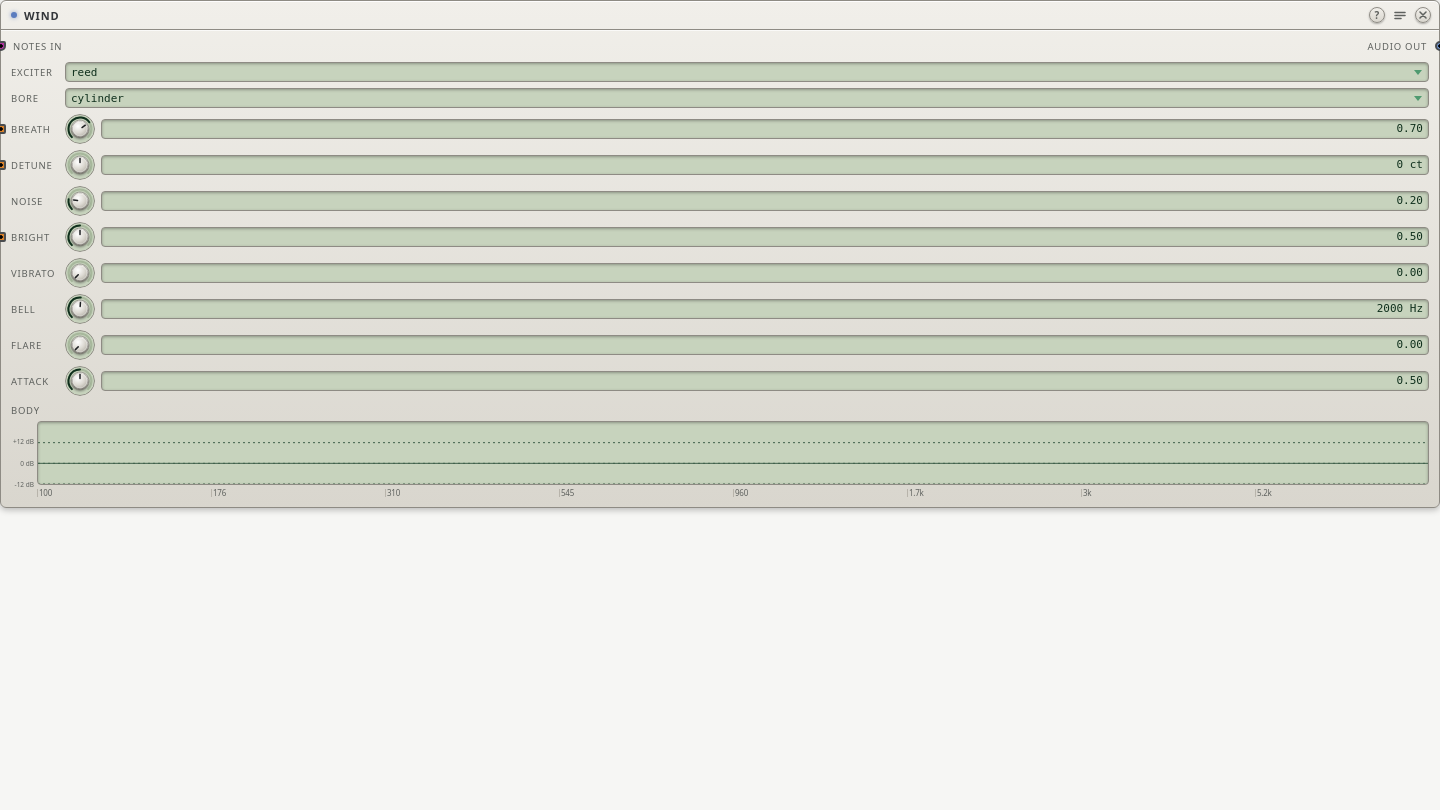
it: PresetMenu › built in › saves a preset named as a built-in one as one of your own, leaving the built-in one as it is
Click the button named "Presets of Wind" at {"x": 1400, "y": 15}, box [1392,7,1408,23]
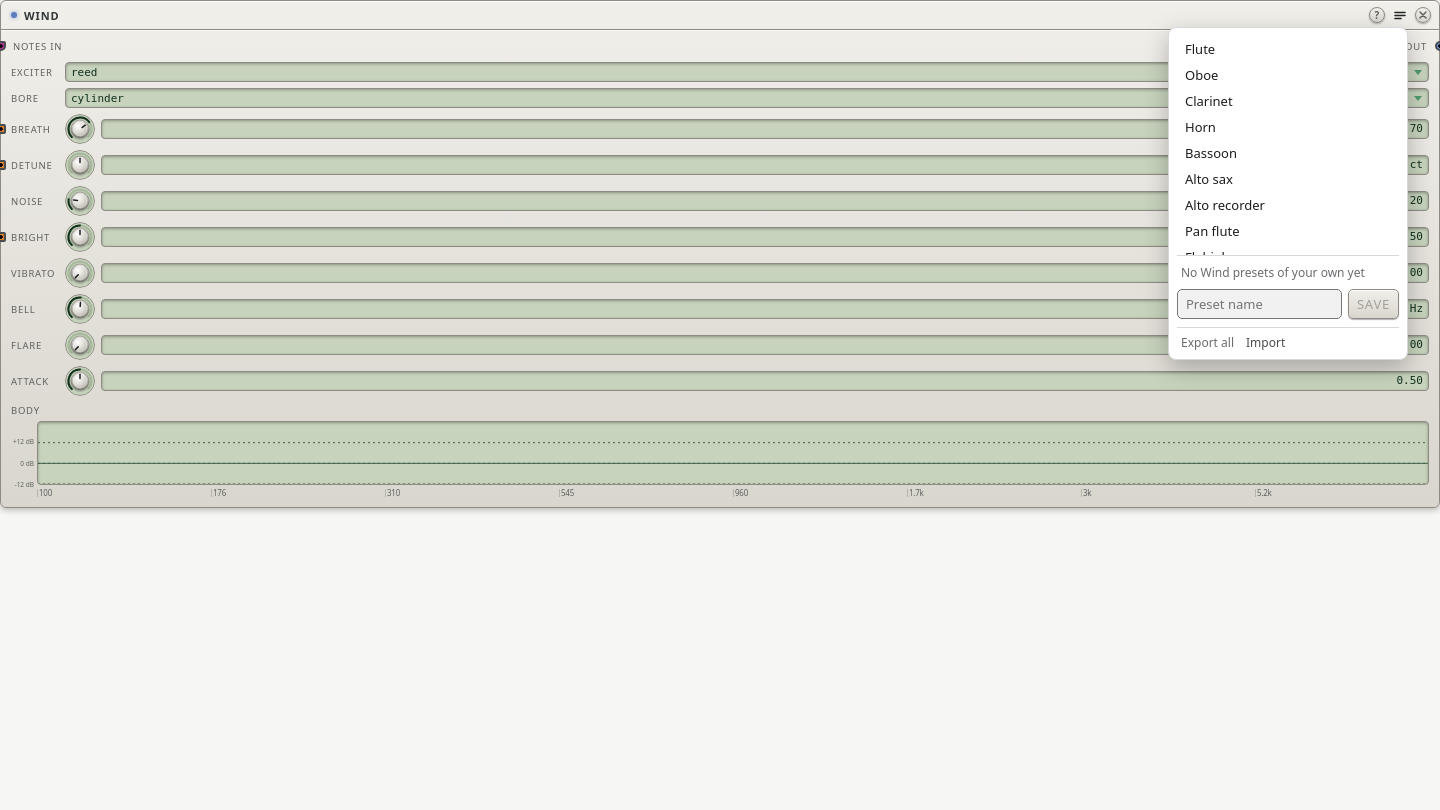
Type "Oboe" into the field labelled "Preset name" at {"x": 1259, "y": 304}, box [1177,289,1342,319]
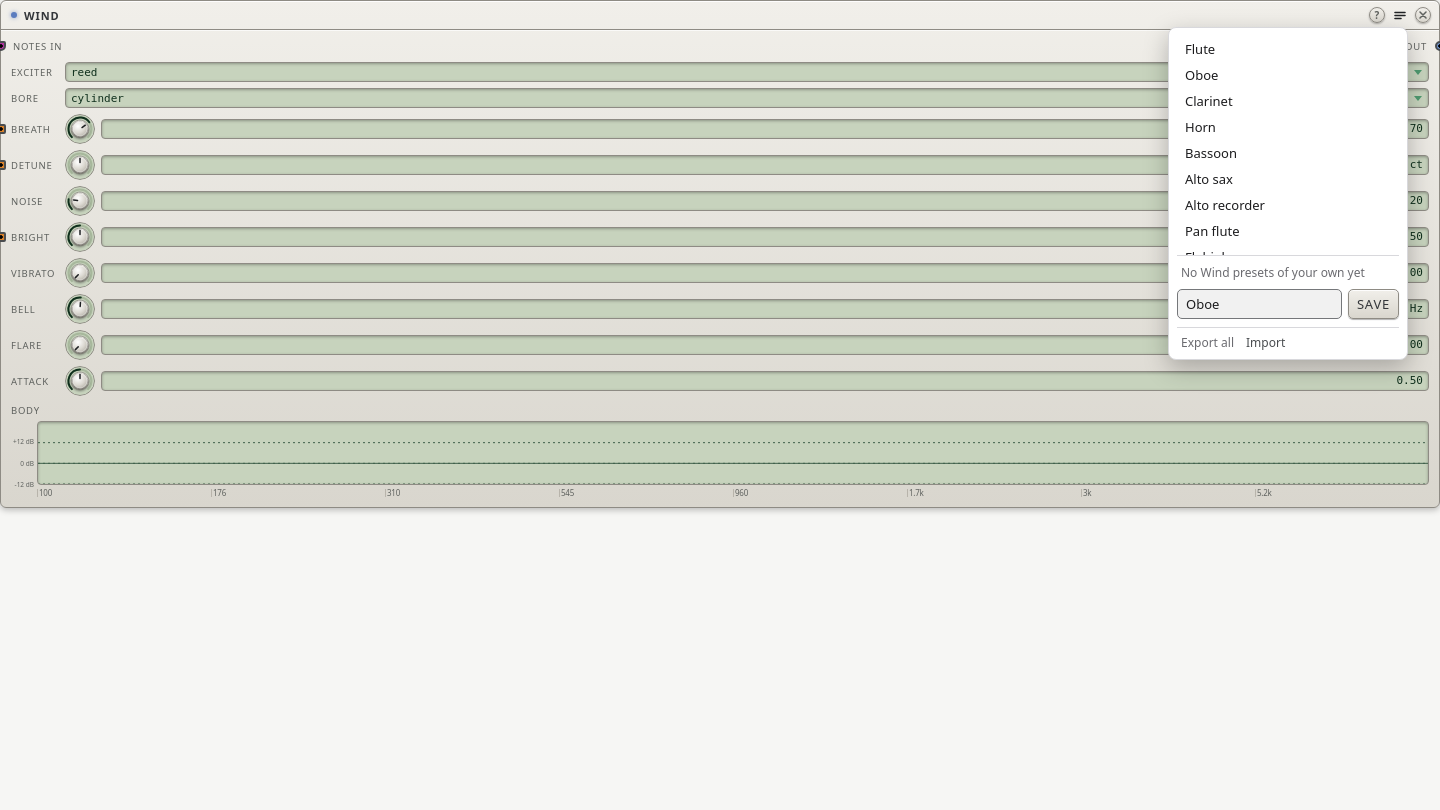
Now the button with aria-label "Save preset" is shown, box [1348,289,1399,319]
Press Enter
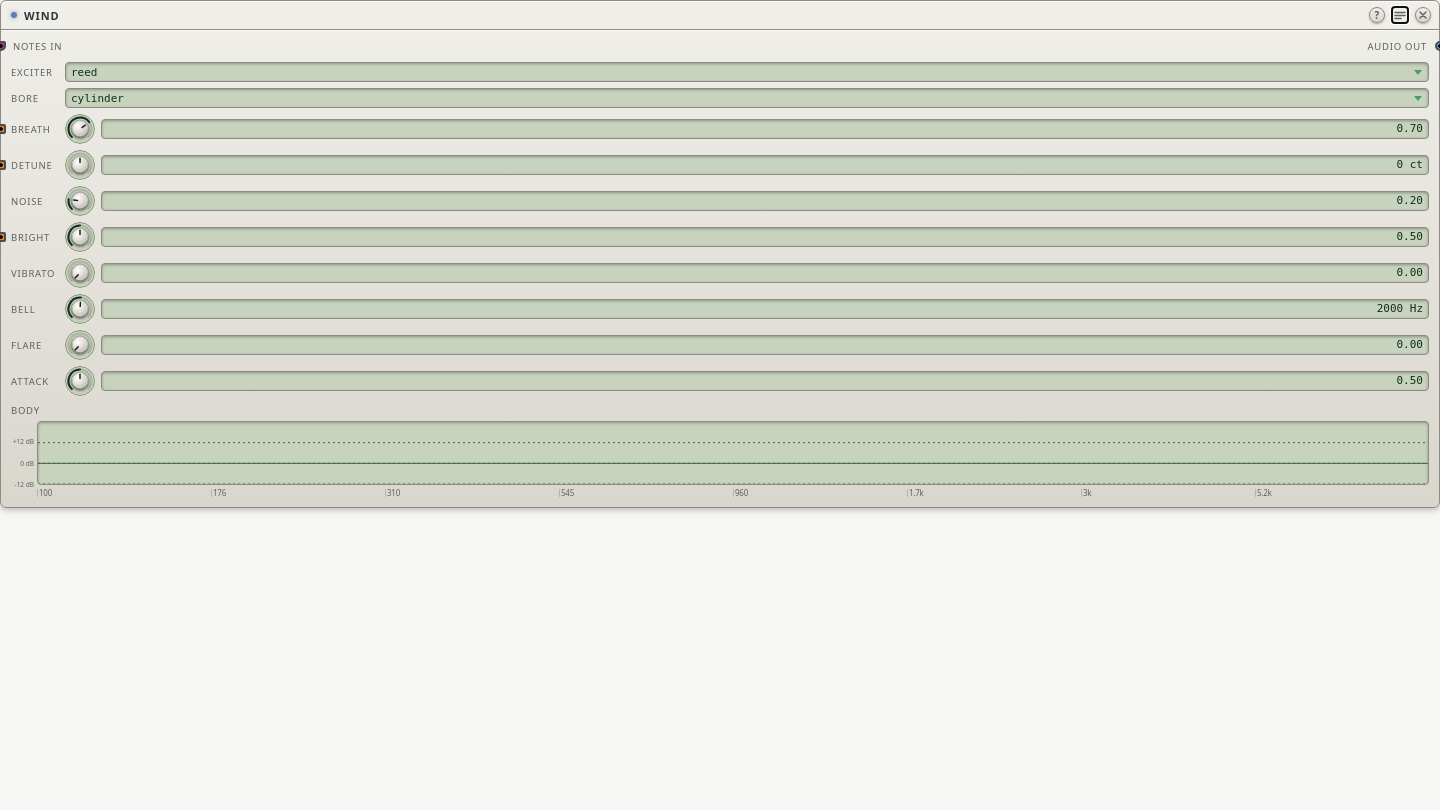
Click the button named "Presets of Wind" at {"x": 1400, "y": 15}, box [1392,7,1408,23]
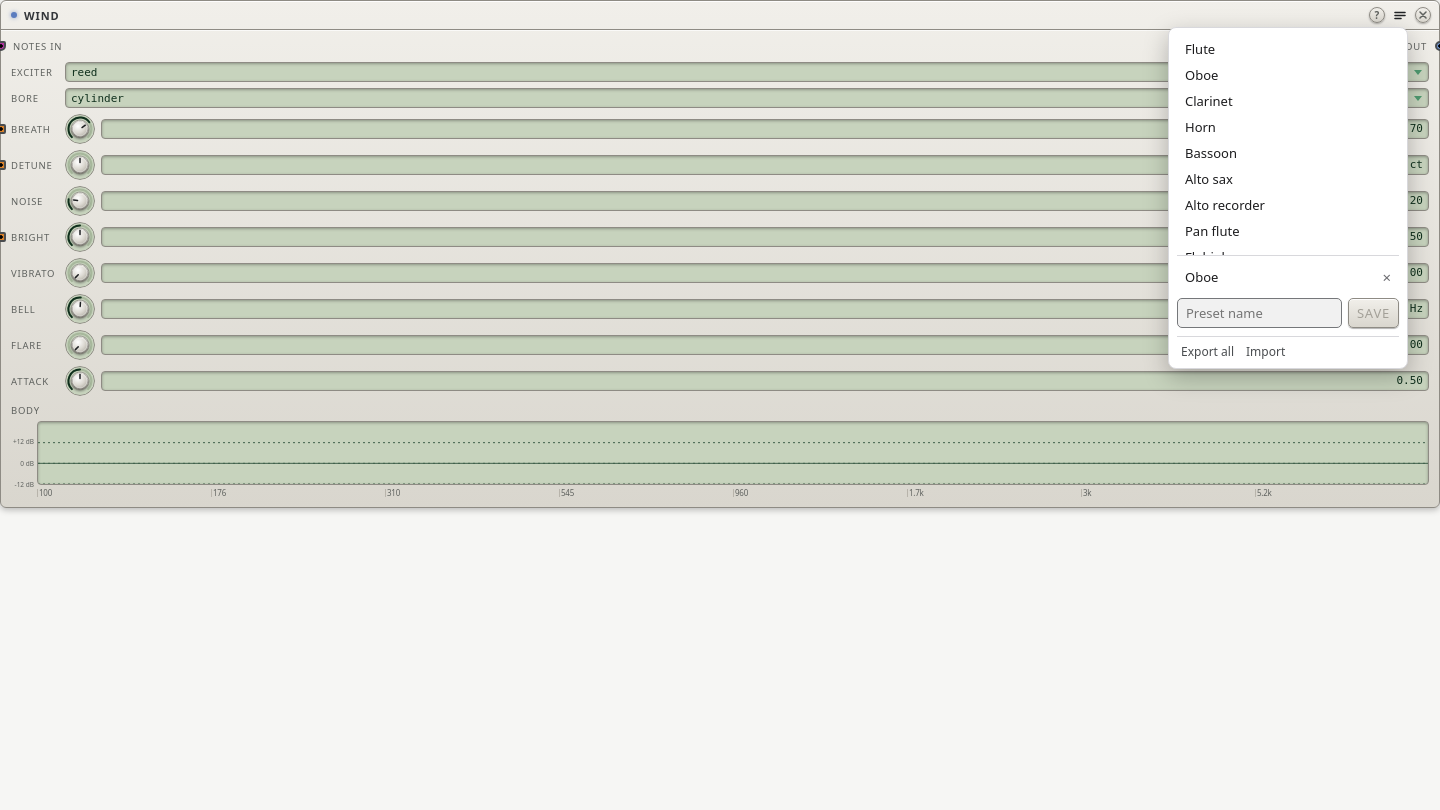
Now the 1st button "Oboe" is shown, box [1177,62,1399,88]
